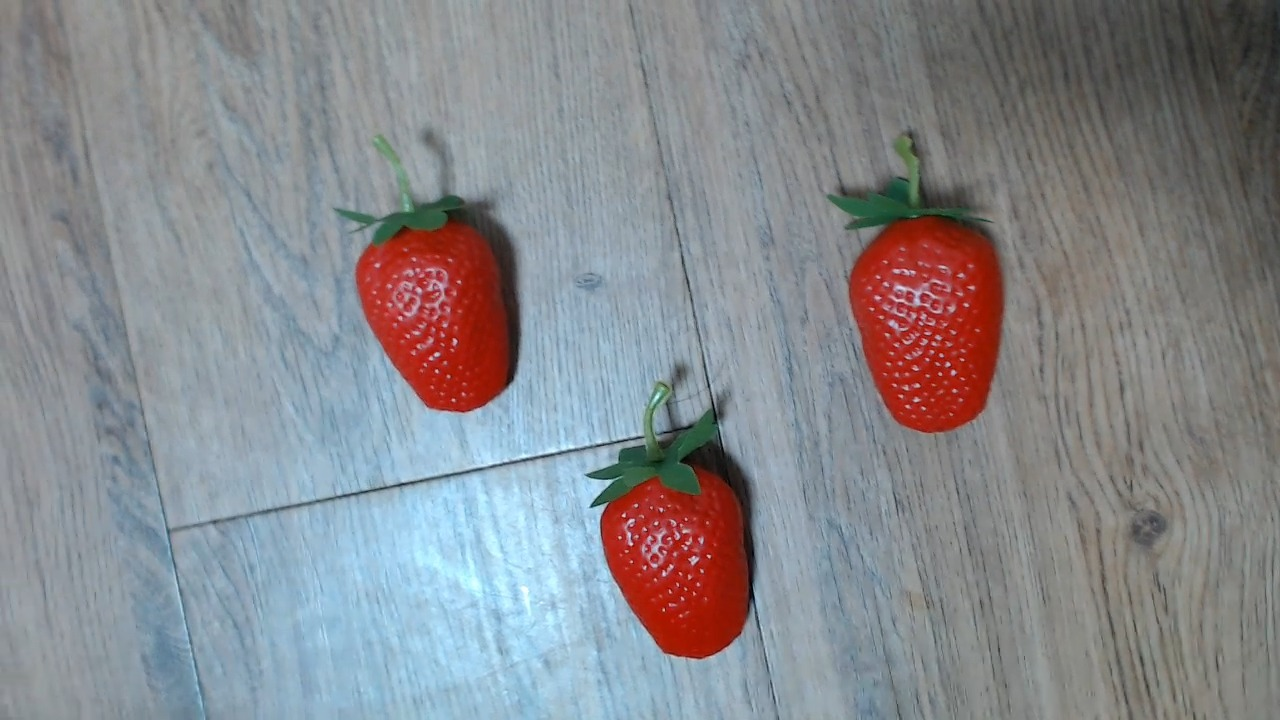strawberry: (576, 439, 775, 662), (834, 187, 1011, 436), (336, 196, 531, 416)
